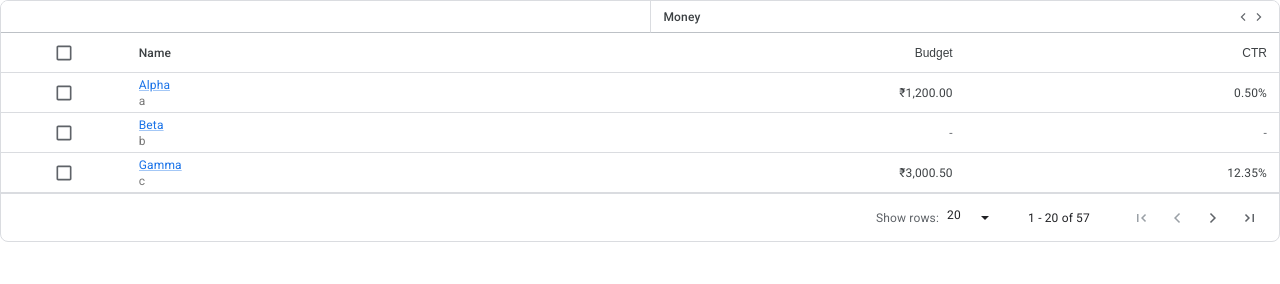
Test: DvGrid › collapses and expands a column group
This screenshot has width=1280, height=284.
Check: the column heading "Budget" is shown, box [650, 33, 965, 73]
Click the button named "Collapse Money" at (1251, 16), box [1235, 8, 1267, 24]
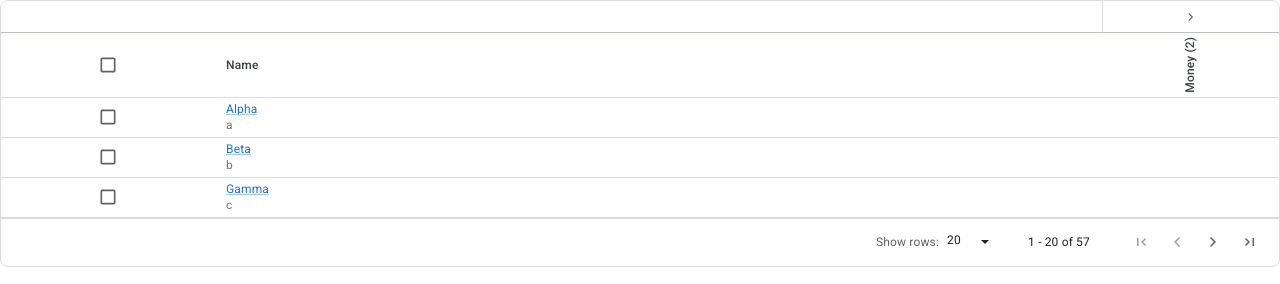
Check: the button "Budget" is gone
Check: the text "Money (2)" is shown, box [1182, 33, 1198, 97]
Check: the button named "Expand Money" is collapsed
Click the button named "Expand Money" at (1191, 16), box [1183, 8, 1199, 24]
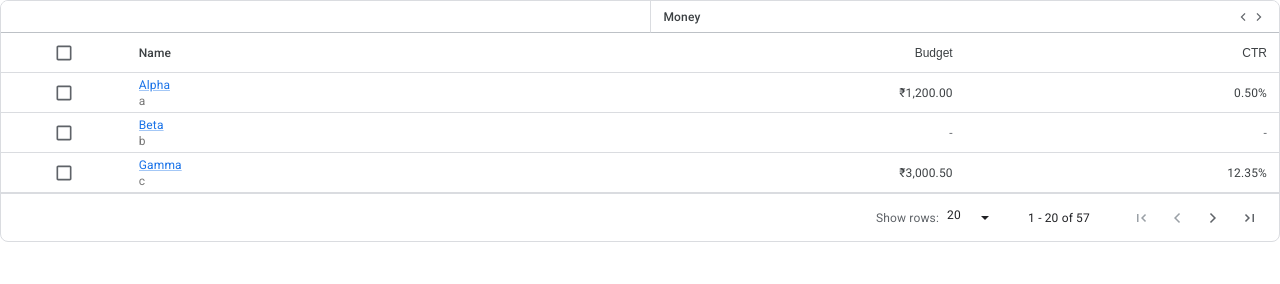
Check: the column heading "Budget" is shown, box [650, 33, 965, 73]
